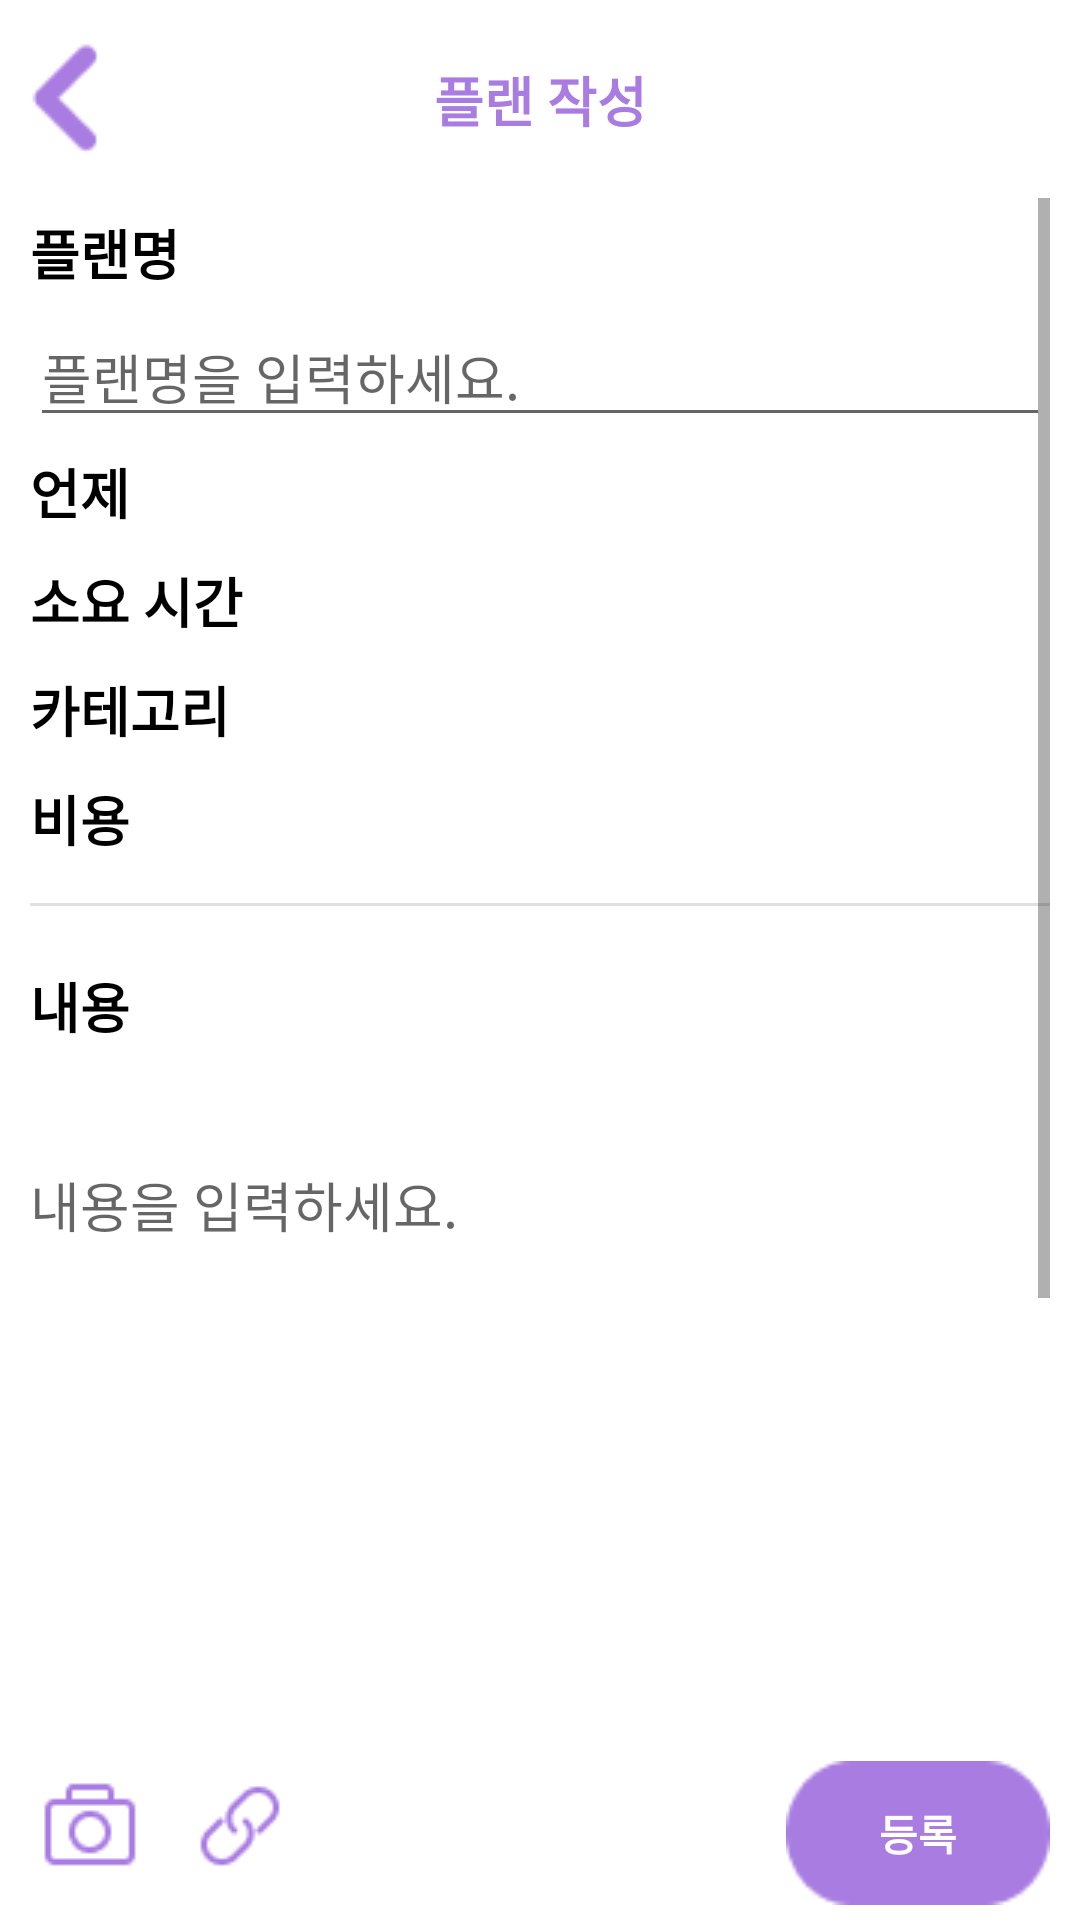

Icon click points for this 1080x1920 phone screenshot, format (x,y):
link: (240,1826)
plusphoto: (90,1824)
